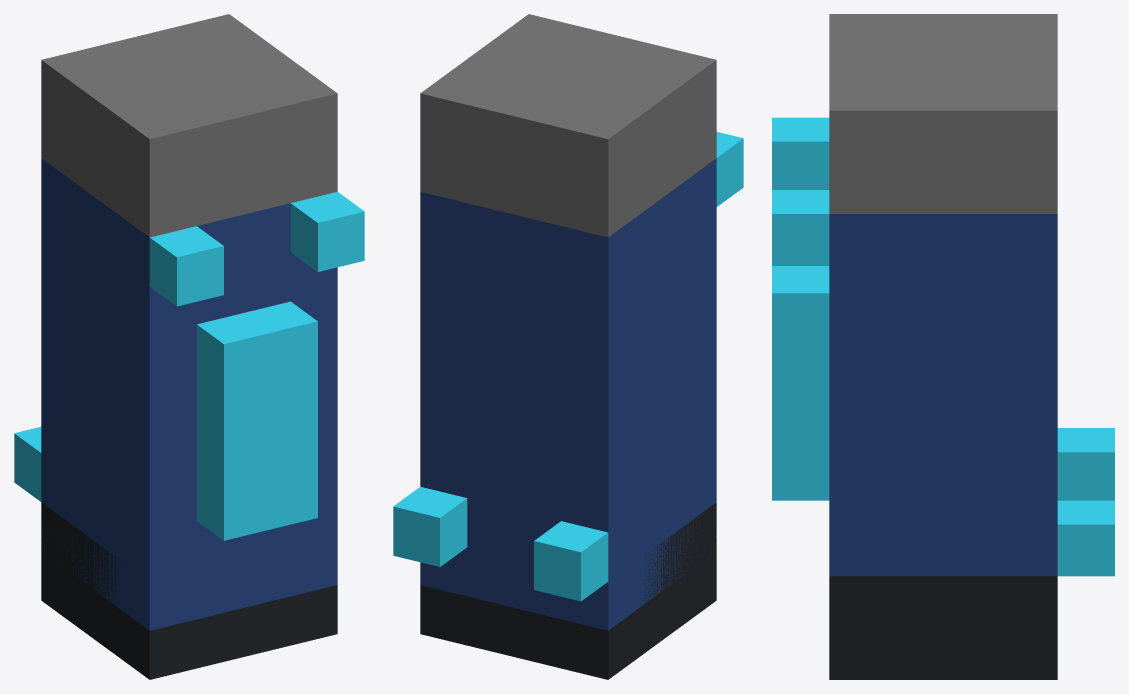
The model's file is prop_energy_cell.glb.
3 renders of one model, left to right at view 1: azimuth 30°, elevation 25°; view 2: azimuth 150°, elevation 25°; view 3: azimuth 270°, elevation 25°, orthographic. The views are drawn at different scales.
Parts seen in each view (by area): view 1: Body mesh, Cap mesh, Core mesh, Base mesh, Light mesh; view 2: Body mesh, Cap mesh, Base mesh, Light mesh; view 3: Body mesh, Cap mesh, Base mesh, Light mesh, Core mesh.
Part boxes in pixels (<box>): Body mesh: <box>41,158,337,630</box>; Cap mesh: <box>41,14,337,237</box>; Core mesh: <box>196,301,317,540</box>; Base mesh: <box>41,502,337,679</box>; Light mesh: <box>14,191,364,501</box>; Body mesh: <box>420,158,716,630</box>; Cap mesh: <box>420,14,716,237</box>; Base mesh: <box>420,502,716,679</box>; Light mesh: <box>393,132,743,601</box>; Body mesh: <box>829,214,1057,576</box>; Cap mesh: <box>829,14,1057,213</box>; Base mesh: <box>829,576,1057,679</box>; Light mesh: <box>772,117,1114,576</box>; Core mesh: <box>772,266,829,500</box>.
Bounding box in the file's own units: 4 × 11 × 6.
Materials: 1 (1 with a texture image).
